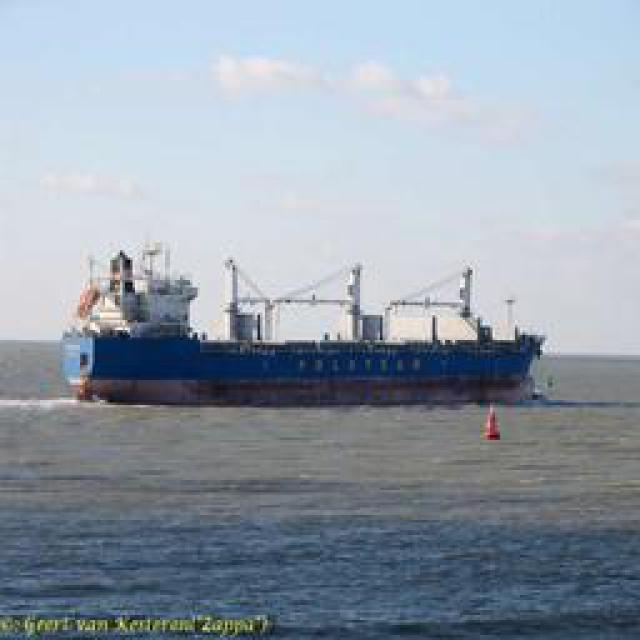Ship: (68, 250, 546, 408)
